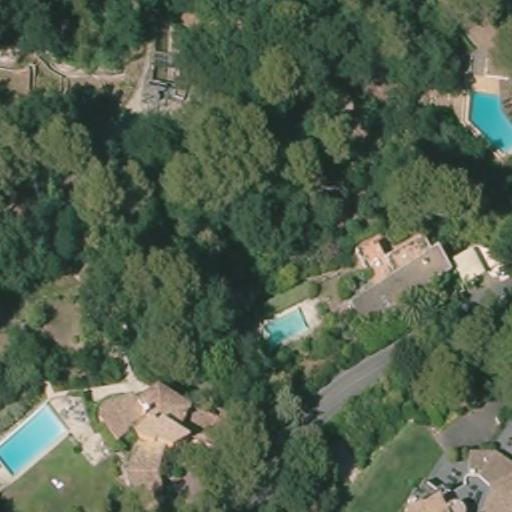pool: (1, 401, 68, 481), (462, 82, 512, 161), (255, 305, 310, 352)
